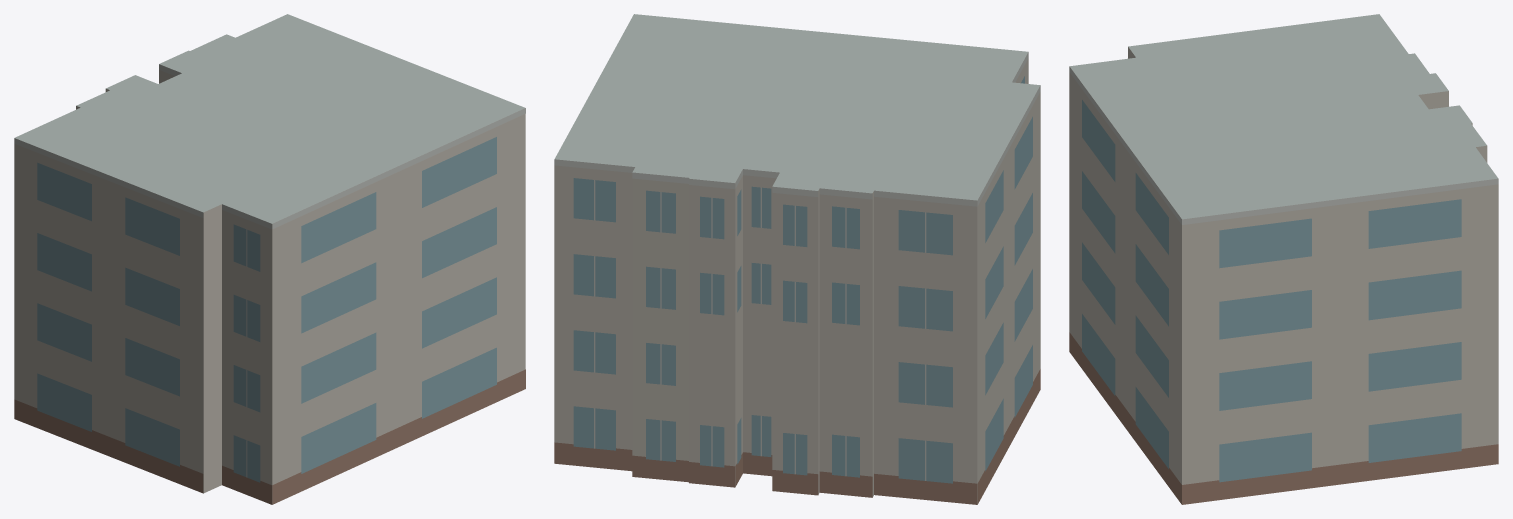
The model's file is survey-upis-32971138.glb.
The picture shows the model from 3 angles, left to right: view 1: azimuth 30°, elevation 25°; view 2: azimuth 150°, elevation 25°; view 3: azimuth 270°, elevation 25°; orthographic projection. The views are drawn at different scales.
Visible parts, largest first — view 1: survey-upis-32971138.tmp; view 2: survey-upis-32971138.tmp; view 3: survey-upis-32971138.tmp.
Part boxes in pixels (x1,y1,x2,y2): survey-upis-32971138.tmp: (14,14,525,504); survey-upis-32971138.tmp: (554,14,1040,504); survey-upis-32971138.tmp: (1069,14,1498,504).
Size of the model in its own units: 18.76 by 12.15 by 16.56.
